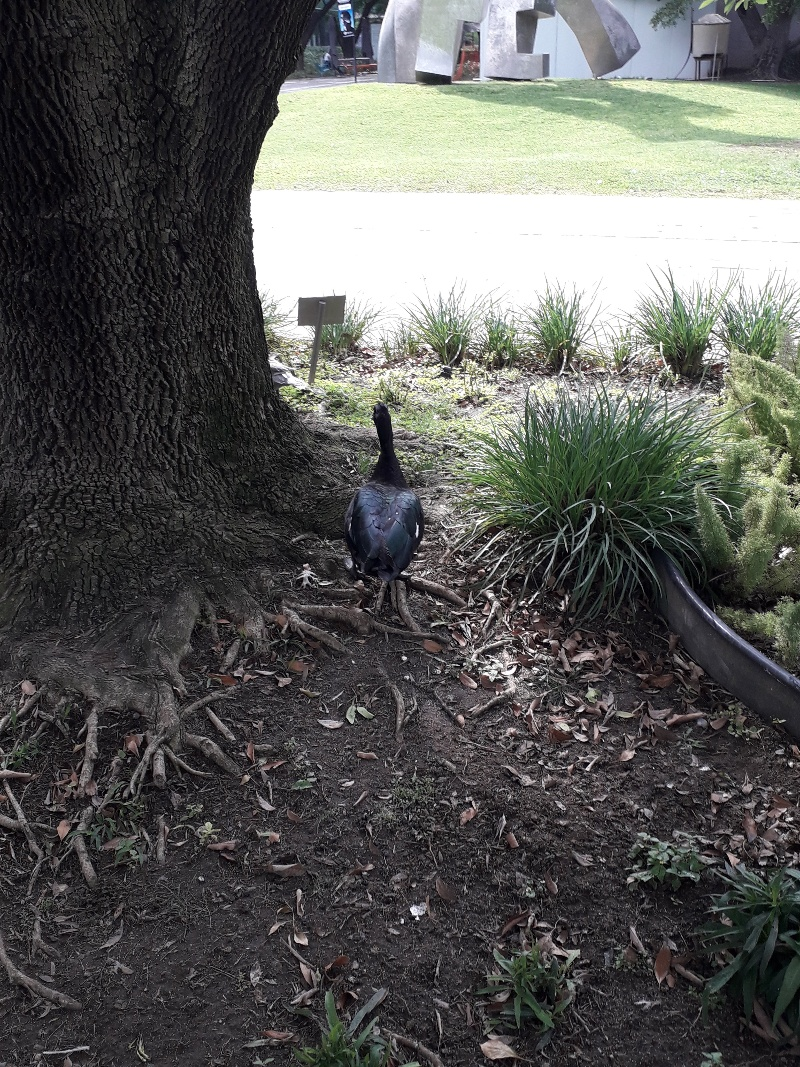pato: (358, 397, 418, 581)
